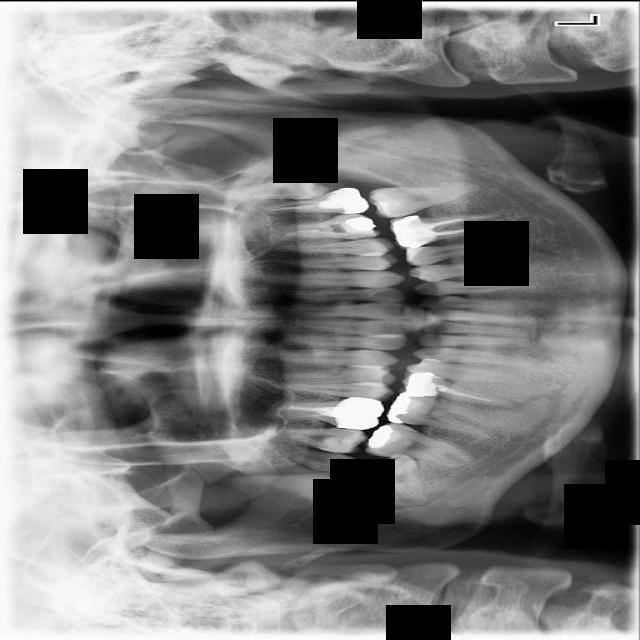3M ESPE Implant: (269, 438, 362, 478)
52: (386, 208, 436, 253), (334, 393, 383, 432), (368, 420, 417, 455), (388, 391, 439, 424), (328, 187, 369, 213), (341, 212, 381, 237), (405, 242, 442, 266), (404, 371, 436, 395), (328, 454, 347, 473)
73: (420, 197, 501, 244), (428, 376, 522, 413), (268, 212, 360, 242), (261, 398, 347, 427), (258, 193, 339, 216), (606, 14, 614, 22)
BioHorizons Implant: (260, 186, 369, 213)
BioLife Implant: (222, 173, 328, 201)
Blue Sky Bio Implant: (369, 179, 482, 218)
Caries: (264, 423, 362, 452)
Implant: (366, 418, 472, 468)
Keystone Dental Implant: (359, 437, 445, 510)
